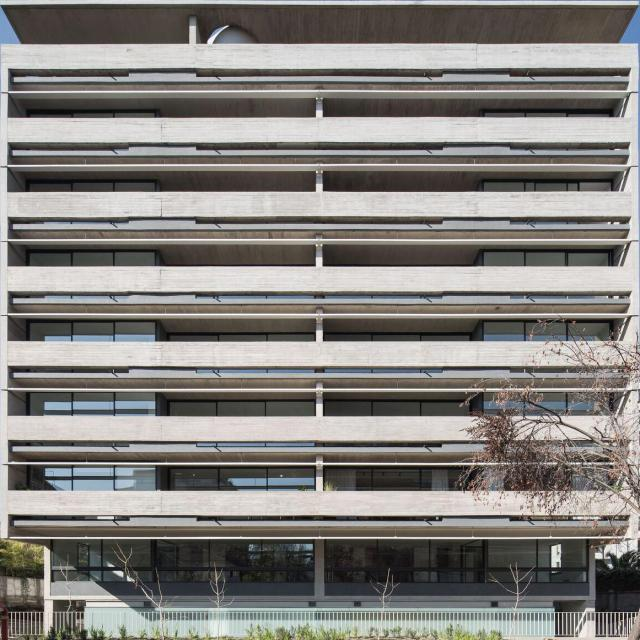Railing: (10, 610, 634, 637)
plant: (462, 334, 639, 515)
wall: (0, 2, 640, 638)
windows: (54, 538, 315, 581), (327, 541, 590, 580), (28, 463, 318, 490), (29, 391, 318, 416), (325, 391, 614, 416), (325, 466, 606, 490), (325, 320, 613, 341), (28, 321, 318, 341), (29, 252, 166, 266), (482, 251, 614, 265), (29, 180, 158, 192), (485, 180, 612, 192), (484, 110, 614, 118), (31, 113, 159, 117)
